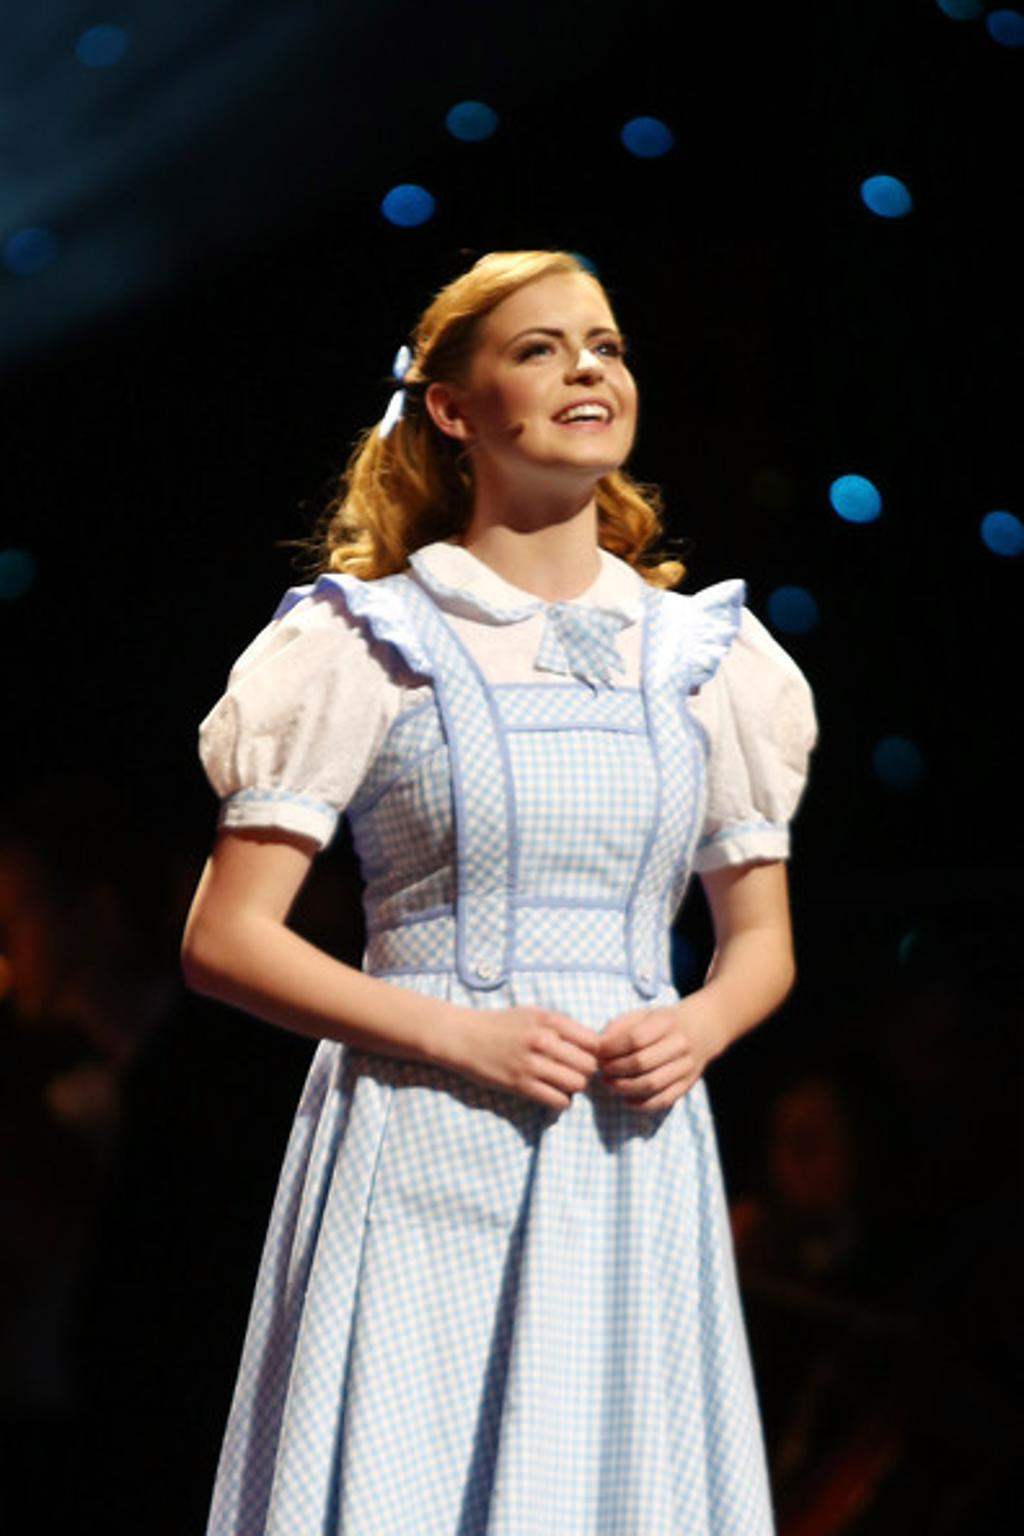face: (471, 279, 642, 474)
